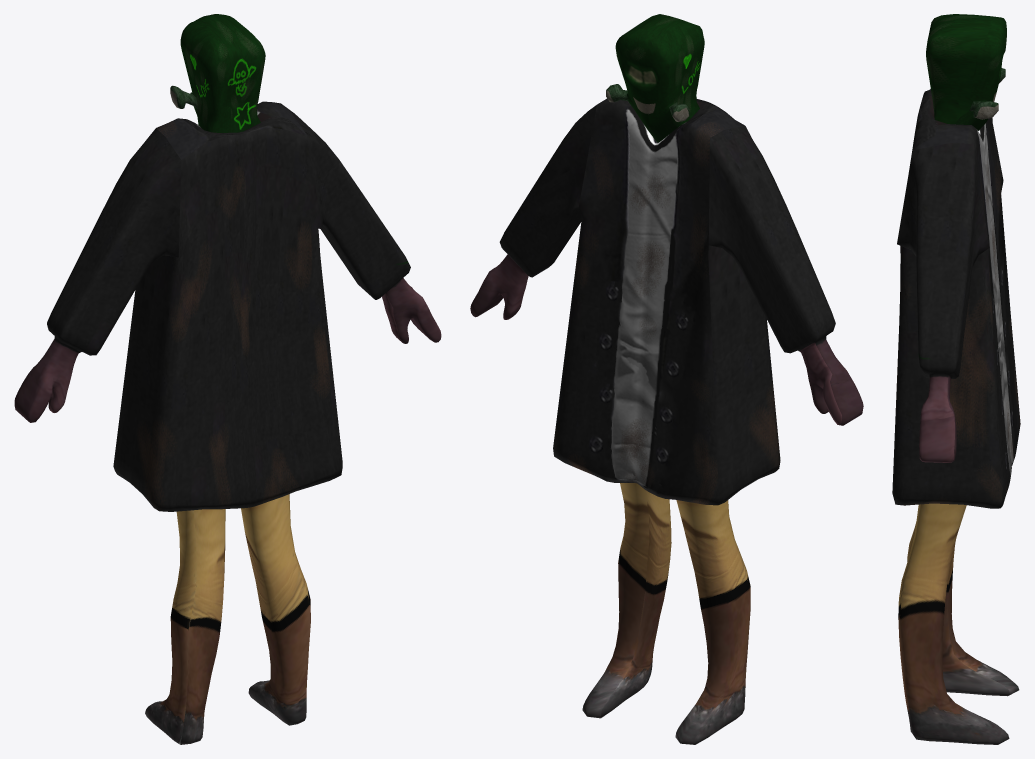
Rendered from char.FBX.
3 renders of one model, left to right at view 1: azimuth 30°, elevation 25°; view 2: azimuth 150°, elevation 25°; view 3: azimuth 270°, elevation 25°, orthographic.
Parts seen in each view (by area): view 1: arm; view 2: arm; view 3: arm.
Boxes of the visible parts, x1,y1,x2,y2 form: arm: [14, 14, 441, 744]; arm: [470, 14, 863, 744]; arm: [892, 14, 1020, 744].
Bounding box in the file's own units: 66.72 × 112 × 18.59.
Materials: 1 (1 with a texture image).
